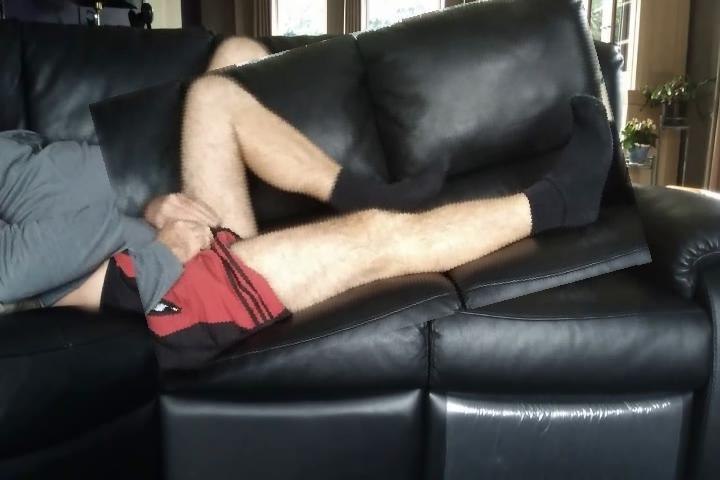lower_body: (105, 5, 639, 363)
